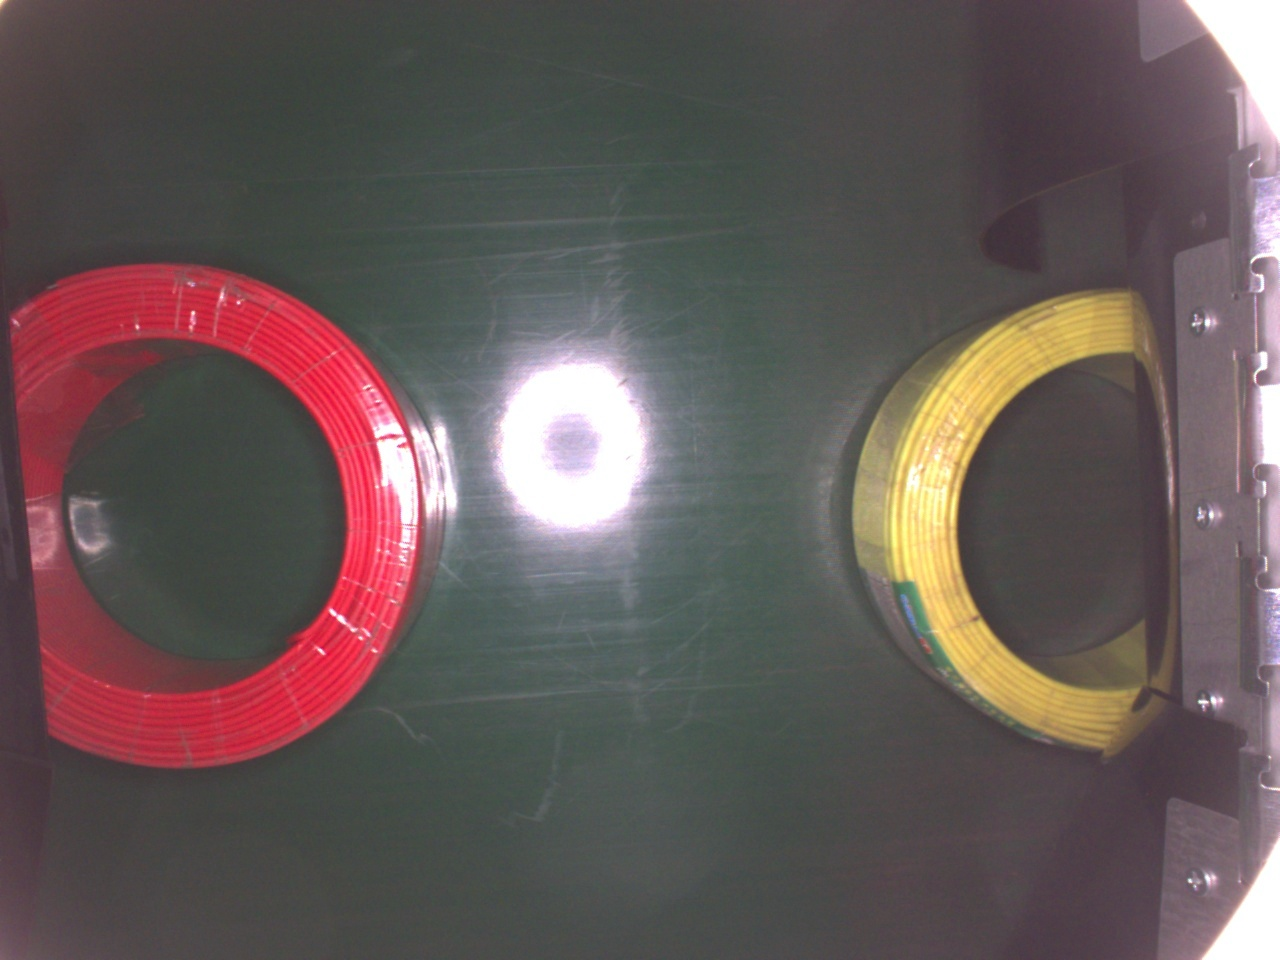red: (3, 262, 445, 775)
yellow: (854, 288, 1141, 754)
